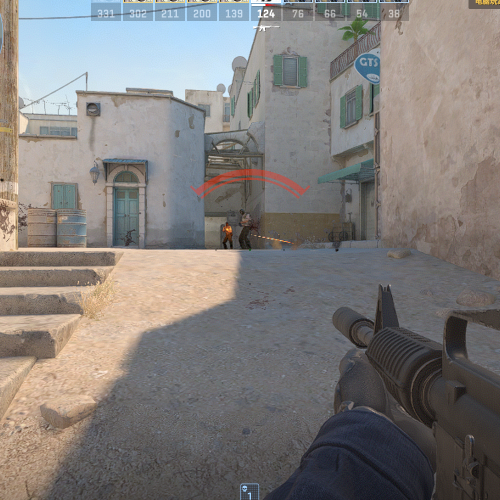t_body: (239, 208, 253, 250), (222, 222, 234, 250)
t_head: (240, 208, 245, 216), (225, 222, 229, 226)
